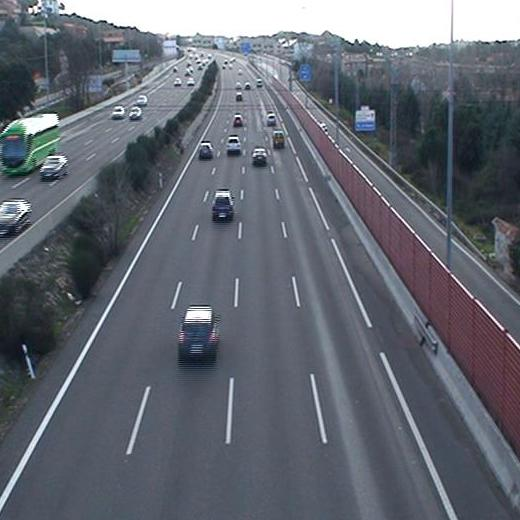car: (177, 303, 218, 358), (209, 190, 234, 222), (223, 133, 244, 157), (196, 138, 215, 161), (252, 146, 270, 164), (231, 112, 244, 129), (266, 109, 278, 124), (233, 92, 247, 103)
van: (270, 127, 288, 148)
